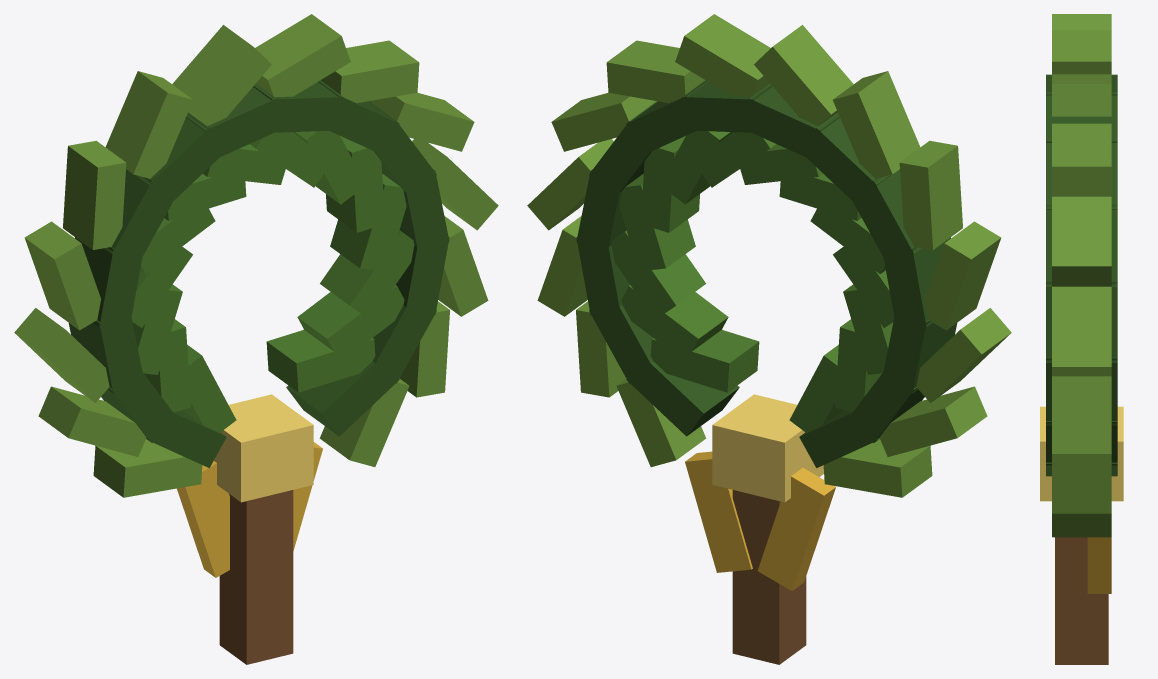
The model's file is PR_GiftLaurel.fbx.
3 renders of one model, left to right at view 1: azimuth 30°, elevation 25°; view 2: azimuth 150°, elevation 25°; view 3: azimuth 270°, elevation 25°, orthographic.
Parts seen in each view (by area): view 1: PR_GiftLaurel_Mesh; view 2: PR_GiftLaurel_Mesh; view 3: PR_GiftLaurel_Mesh.
Boxes of the visible parts, x1,y1,x2,y2 form: PR_GiftLaurel_Mesh: (14, 14, 498, 664); PR_GiftLaurel_Mesh: (527, 14, 1011, 664); PR_GiftLaurel_Mesh: (1040, 14, 1123, 664).
Bounding box in the file's own units: 0.8758 × 0.174 × 1.14.
